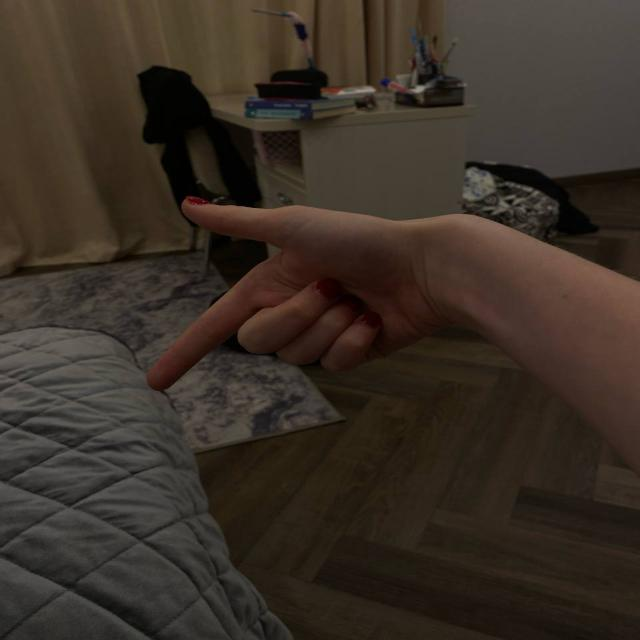g: (138, 187, 402, 395)
